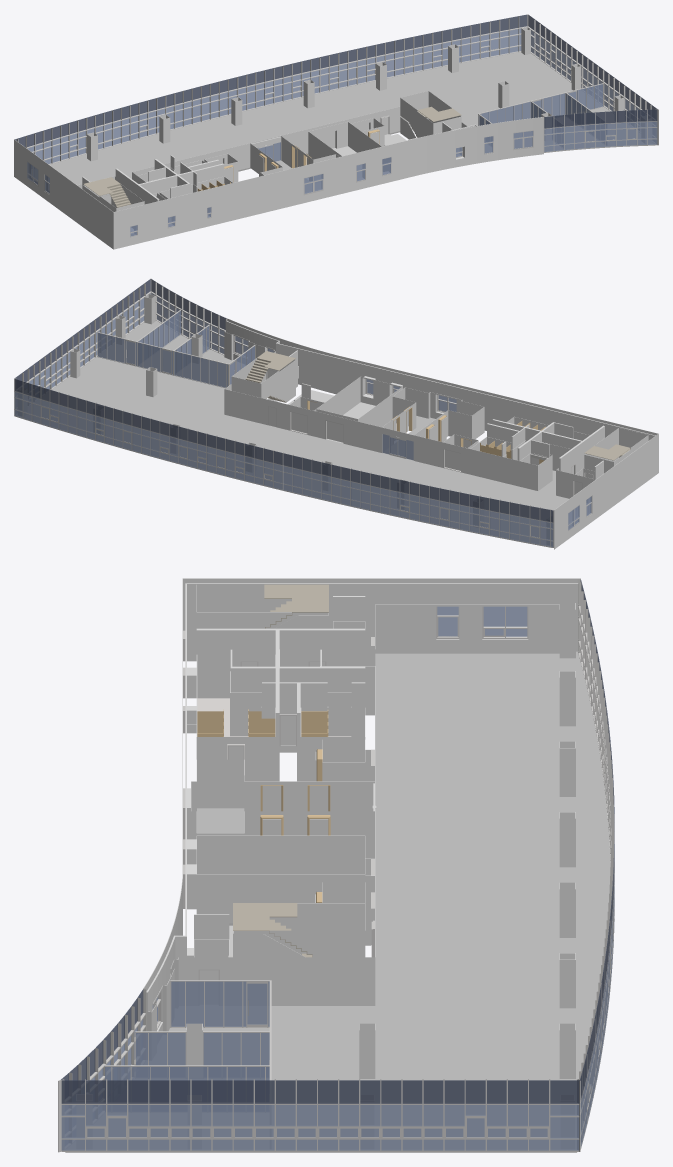
The picture shows the model from 3 angles, top to bottom: view 1: azimuth 30°, elevation 25°; view 2: azimuth 150°, elevation 25°; view 3: azimuth 270°, elevation 25°; orthographic projection. The views are drawn at different scales.
Parts seen in each view (by area): view 1: A8_17F_Window, A8_17F_Floor, A8_17F_outWall, A8_17F_Wall, A8_17F_Pillar, A8_17F_Glass, A8_17F_Stairs, A8_17F_Frame, A8_17F_ELEV, A8_17F_Door, A8_17F_AutomaticDoor; view 2: A8_17F_Floor, A8_17F_Window, A8_17F_Wall, A8_17F_outWall, A8_17F_Glass, A8_17F_Pillar, A8_17F_Door, A8_17F_Frame, A8_17F_Stairs, A8_17F_AutomaticDoor, A8_17F_ELEV, A8_17F_GlassDoor; view 3: A8_17F_Floor, A8_17F_Wall, A8_17F_Window, A8_17F_Pillar, A8_17F_Glass, A8_17F_outWall, A8_17F_Stairs, A8_17F_ELEV, A8_17F_Frame, A8_17F_Door, A8_17F_Toilet, A8_17F_GlassDoor.
Part boxes in pixels (left/top/right/bottom): A8_17F_Window: left=15, top=14, right=658, bottom=237; A8_17F_Floor: left=31, top=52, right=654, bottom=191; A8_17F_outWall: left=14, top=117, right=543, bottom=249; A8_17F_Wall: left=29, top=91, right=476, bottom=235; A8_17F_Pillar: left=87, top=27, right=651, bottom=161; A8_17F_Glass: left=478, top=84, right=602, bottom=125; A8_17F_Stairs: left=83, top=106, right=461, bottom=207; A8_17F_Frame: left=478, top=83, right=603, bottom=125; A8_17F_ELEV: left=224, top=129, right=379, bottom=182; A8_17F_Door: left=102, top=115, right=458, bottom=203; A8_17F_AutomaticDoor: left=251, top=136, right=281, bottom=163; A8_17F_Floor: left=25, top=320, right=587, bottom=547; A8_17F_Window: left=14, top=278, right=591, bottom=547; A8_17F_Wall: left=224, top=321, right=655, bottom=527; A8_17F_outWall: left=227, top=318, right=658, bottom=549; A8_17F_Glass: left=98, top=311, right=254, bottom=387; A8_17F_Pillar: left=18, top=294, right=549, bottom=544; A8_17F_Door: left=267, top=369, right=593, bottom=495; A8_17F_Frame: left=97, top=310, right=255, bottom=388; A8_17F_Stairs: left=245, top=351, right=630, bottom=460; A8_17F_AutomaticDoor: left=381, top=428, right=413, bottom=460; A8_17F_ELEV: left=307, top=400, right=471, bottom=448; A8_17F_GlassDoor: left=126, top=340, right=563, bottom=454; A8_17F_Floor: left=65, top=651, right=610, bottom=1152; A8_17F_Wall: left=146, top=583, right=578, bottom=1059; A8_17F_Window: left=58, top=579, right=614, bottom=1152; A8_17F_Pillar: left=77, top=603, right=575, bottom=1148; A8_17F_Glass: left=105, top=981, right=269, bottom=1080; A8_17F_outWall: left=143, top=578, right=580, bottom=991; A8_17F_Stairs: left=233, top=584, right=328, bottom=957; A8_17F_ELEV: left=260, top=749, right=330, bottom=902; A8_17F_Frame: left=105, top=980, right=271, bottom=1148; A8_17F_Door: left=198, top=637, right=374, bottom=1005; A8_17F_Toilet: left=197, top=709, right=328, bottom=736; A8_17F_GlassDoor: left=247, top=981, right=269, bottom=1064.
Bounding box in the file's own units: 61.96 × 4.3 × 29.02.
